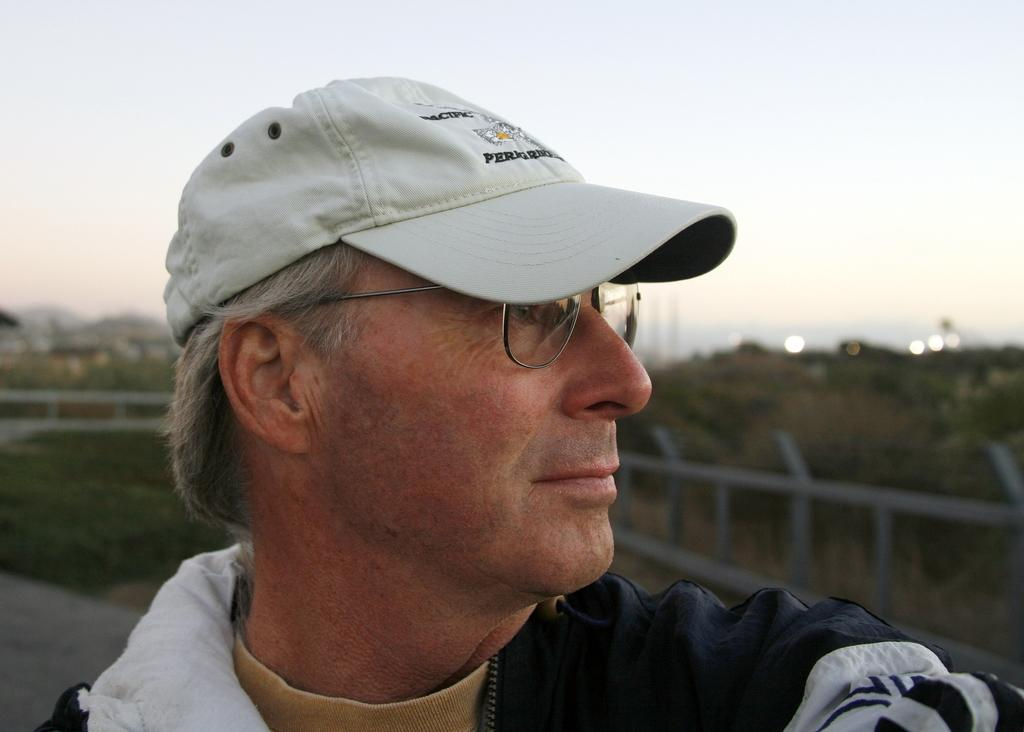Hat: (161, 74, 738, 346)
